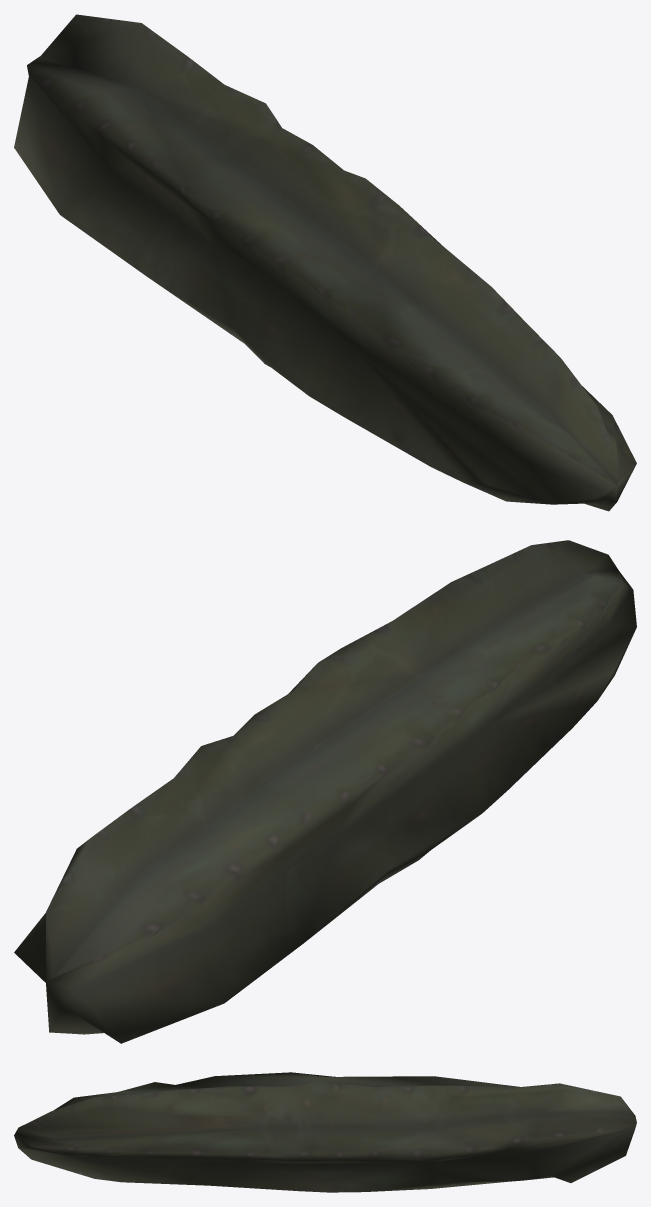
The model's file is DE_Cactus_Part_01_LOD_01.fbx.
3 views of the same model, one above another, from view 1: azimuth 30°, elevation 25°; view 2: azimuth 150°, elevation 25°; view 3: azimuth 270°, elevation 25° (orthographic). The views are drawn at different scales.
Parts seen in each view (by area): view 1: DE_Cactus_Part_01_LOD_01; view 2: DE_Cactus_Part_01_LOD_01; view 3: DE_Cactus_Part_01_LOD_01.
Boxes of the visible parts, x1,y1,x2,y2 form: DE_Cactus_Part_01_LOD_01: [14, 14, 636, 511]; DE_Cactus_Part_01_LOD_01: [14, 540, 636, 1043]; DE_Cactus_Part_01_LOD_01: [14, 1072, 636, 1192].
Bounding box in the file's own units: 0.3928 × 0.4039 × 2.1.
